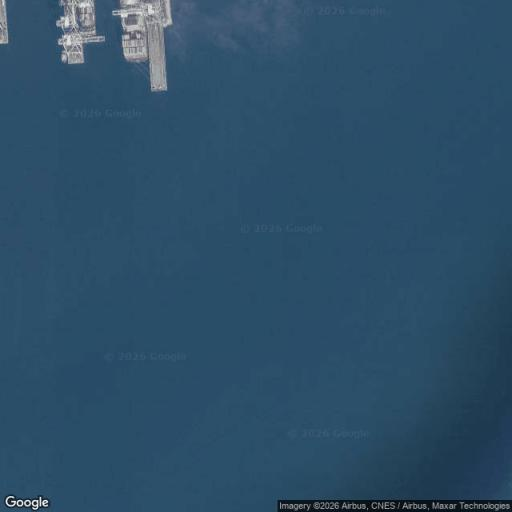ship: (119, 2, 148, 61), (78, 0, 97, 36)
